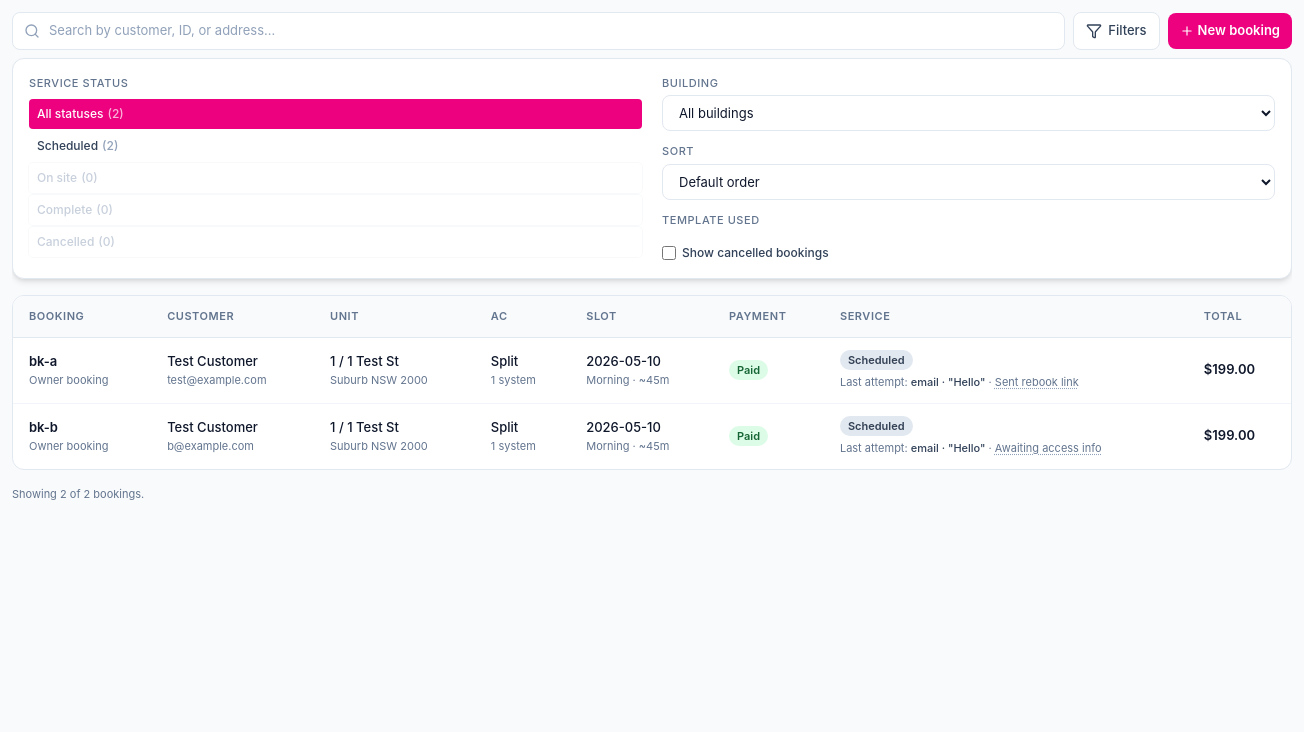
Scenario: BookingsView — template filter pivot › clears the pivot when the chip's clear button is clicked
Click the button with test id "bookings-row-last-attempt-template" showing "Sent rebook link".
click(1037, 382)  # box [995, 374, 1079, 390]
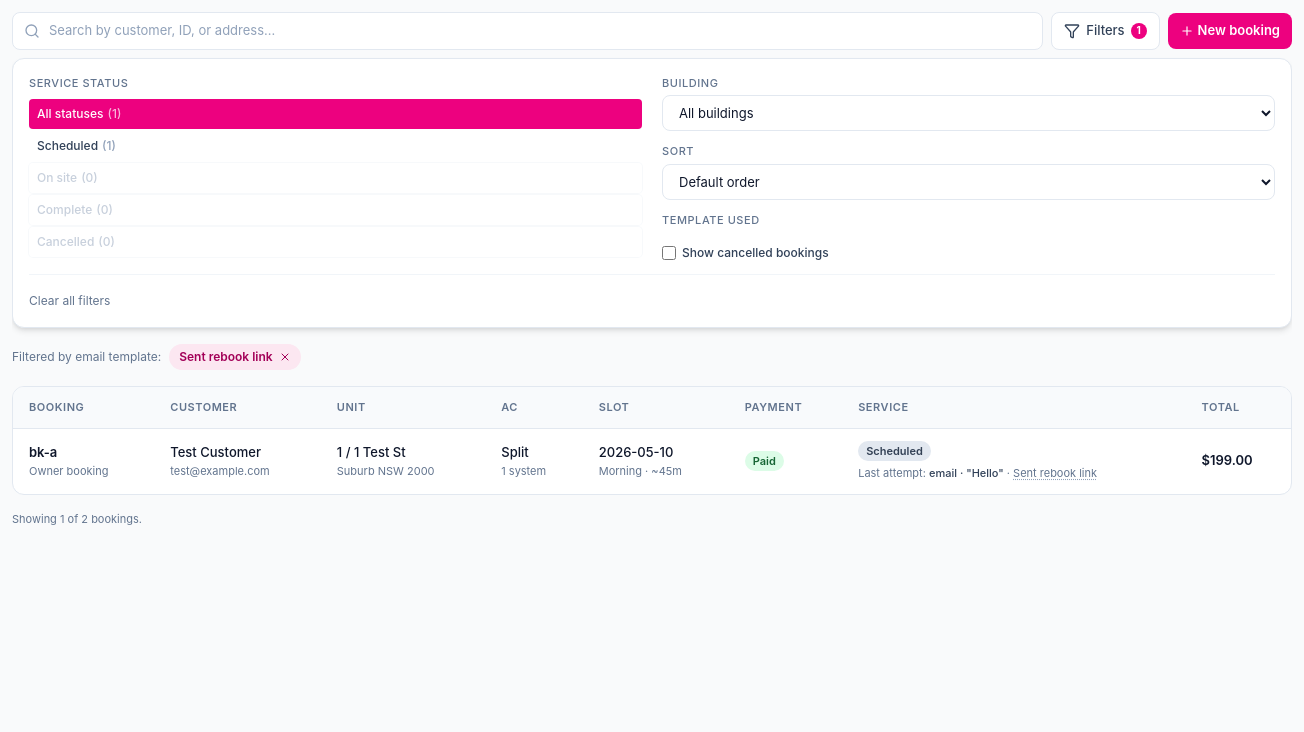
Click the button with test id "button-clear-bookings-template-filter".
click(235, 357)  # box [169, 344, 301, 370]
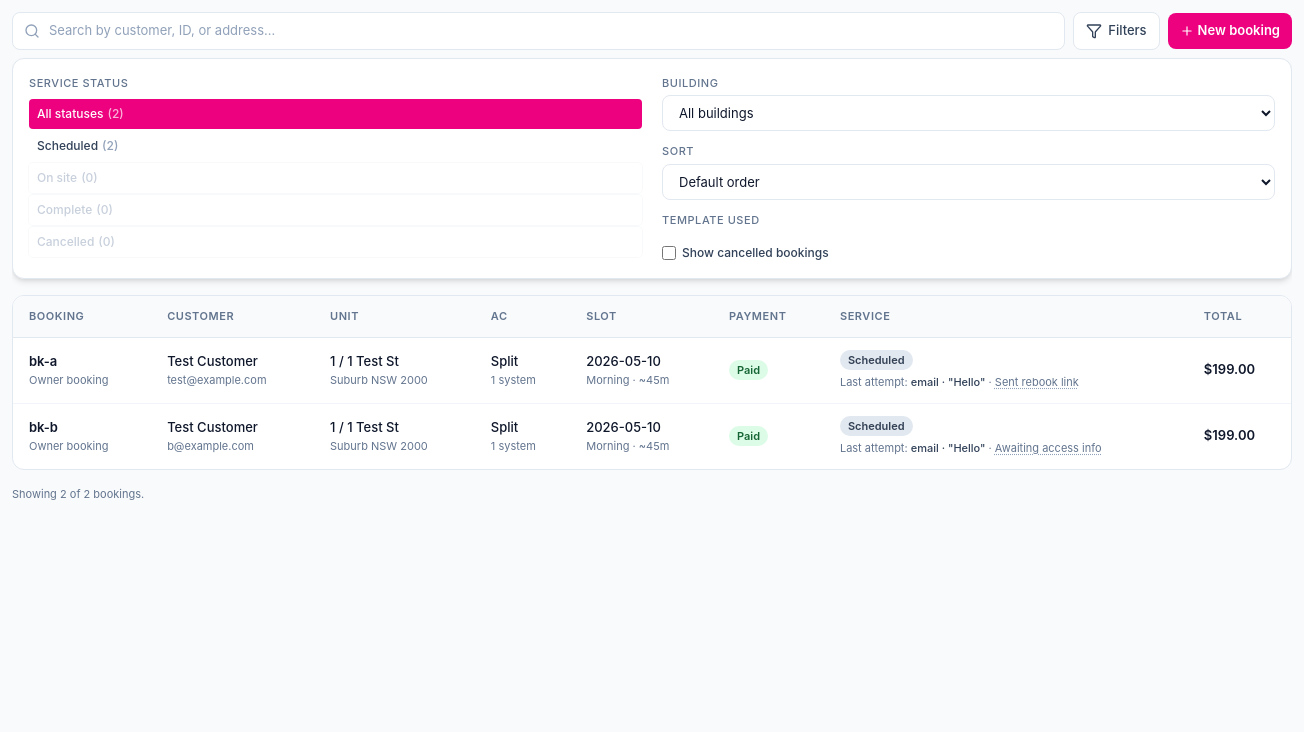
Check: the element with test id "bookings-template-filter-chip" is gone
